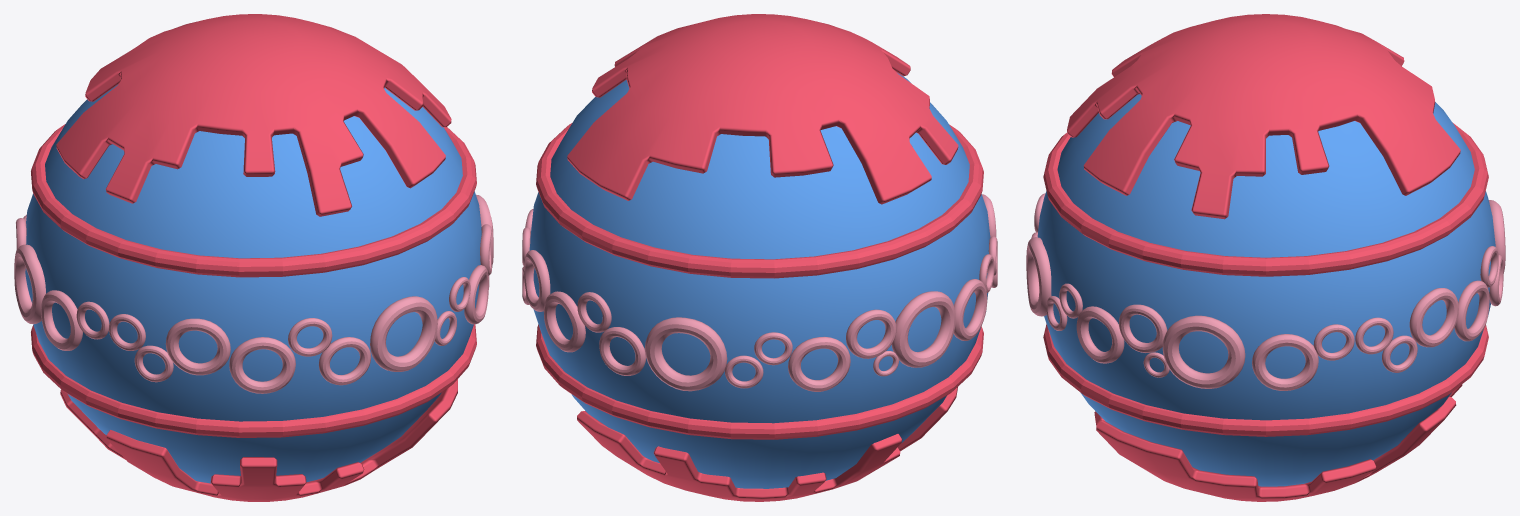
File: BOTW bomb 02 material.fbx
The picture shows the model from 3 angles, left to right: view 1: azimuth 30°, elevation 25°; view 2: azimuth 150°, elevation 25°; view 3: azimuth 270°, elevation 25°; orthographic projection.
Parts seen in each view (by area): view 1: Sphere, Sphere_Plate, Sphere.003_Curve.001, Torus.006; view 2: Sphere, Sphere_Plate, Sphere.003_Curve.001, Torus.006; view 3: Sphere, Sphere_Plate, Sphere.003_Curve.001, Torus.006.
Boxes of the visible parts, x1=… form: Sphere: x1=25, y1=84, x2=481, y2=483; Sphere_Plate: x1=56, y1=14, x2=457, y2=501; Sphere.003_Curve.001: x1=31, y1=124, x2=476, y2=437; Torus.006: x1=14, y1=194, x2=493, y2=393; Sphere: x1=529, y1=73, x2=990, y2=488; Sphere_Plate: x1=567, y1=14, x2=958, y2=501; Sphere.003_Curve.001: x1=536, y1=123, x2=983, y2=439; Torus.006: x1=522, y1=194, x2=997, y2=391; Sphere: x1=1037, y1=94, x2=1495, y2=486; Sphere_Plate: x1=1067, y1=14, x2=1462, y2=501; Sphere.003_Curve.001: x1=1043, y1=122, x2=1488, y2=436; Torus.006: x1=1026, y1=193, x2=1505, y2=390.
Bounding box in the file's own units: 207 × 211 × 208.
